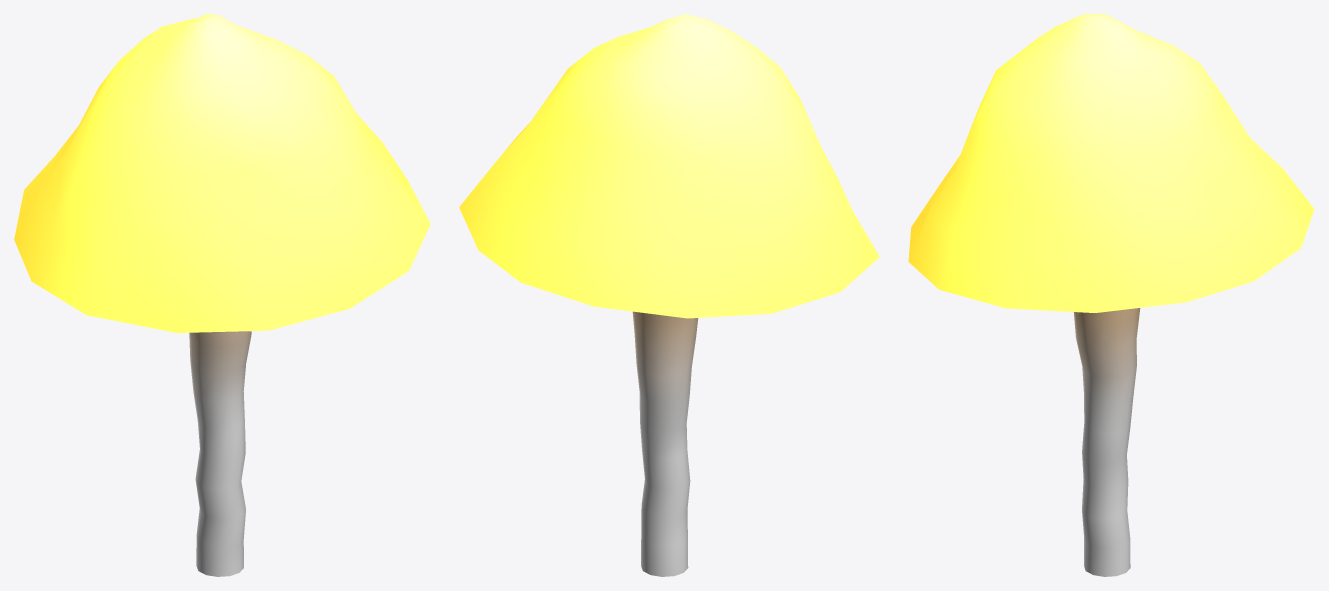
File: mushroom_0.glb
3 views of the same model, side by side, from view 1: azimuth 30°, elevation 25°; view 2: azimuth 150°, elevation 25°; view 3: azimuth 270°, elevation 25° (orthographic). The views are drawn at different scales.
Parts seen in each view (by area): view 1: geo1; view 2: geo1; view 3: geo1.
Boxes of the visible parts, x1=… form: geo1: x1=14, y1=14, x2=430, y2=576; geo1: x1=459, y1=14, x2=879, y2=576; geo1: x1=908, y1=14, x2=1314, y2=576.
Bounding box in the file's own units: 0.2285 × 0.3336 × 0.2254.
